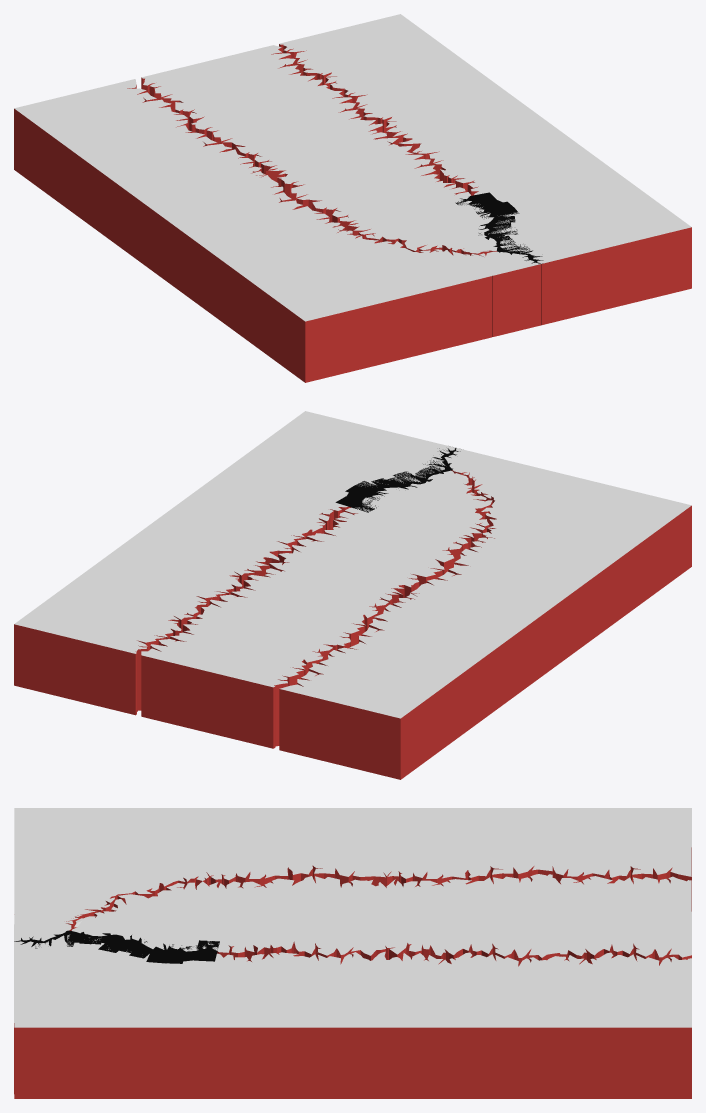
3 views of the same model, one above another, from view 1: azimuth 30°, elevation 25°; view 2: azimuth 150°, elevation 25°; view 3: azimuth 270°, elevation 25° (orthographic). The views are drawn at different scales.
Parts seen in each view (by area): view 1: 2, 3, 1; view 2: 2, 3, 1; view 3: 3, 2, 1.
Part boxes in pixels (x1=…): 2: x1=14, y1=79, x2=492, y2=382; 3: x1=279, y1=14, x2=691, y2=325; 1: x1=141, y1=45, x2=540, y2=336; 2: x1=279, y1=460, x2=691, y2=779; 3: x1=14, y1=411, x2=455, y2=715; 1: x1=141, y1=448, x2=503, y2=748; 3: x1=14, y1=934, x2=691, y2=1098; 2: x1=14, y1=808, x2=691, y2=929; 1: x1=14, y1=874, x2=691, y2=965.
Size of the model in its own units: 8263 by 1262 by 10784.
